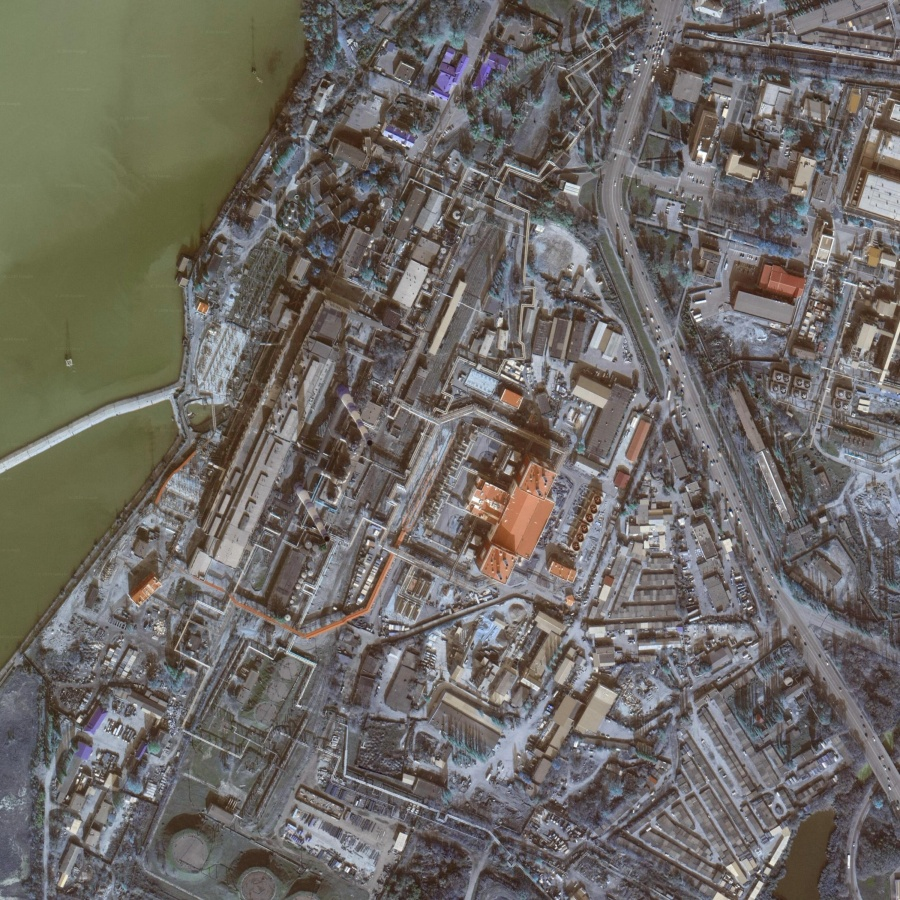PowerPlant: (160, 235, 434, 644)
